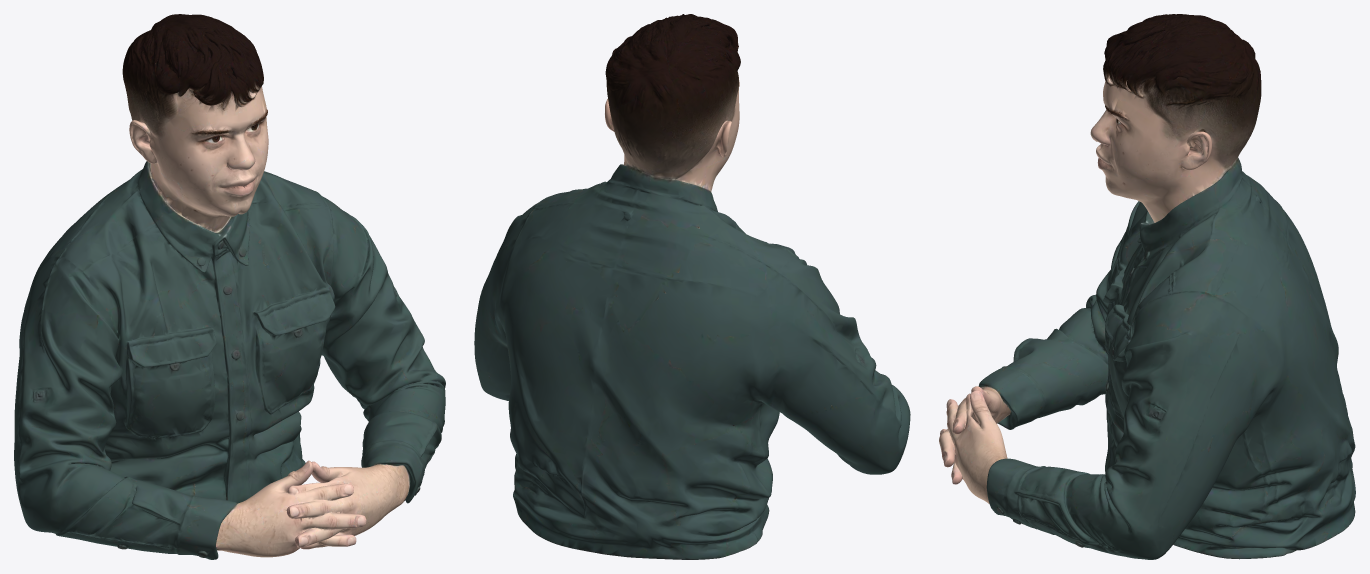
Rendered from bogdan-half.glb.
The picture shows the model from 3 angles, left to right: view 1: azimuth 30°, elevation 25°; view 2: azimuth 150°, elevation 25°; view 3: azimuth 270°, elevation 25°; orthographic projection. The views are drawn at different scales.
Size of the model in its own units: 1.74 by 1.9 by 1.49.
1 material, 1 textured.
